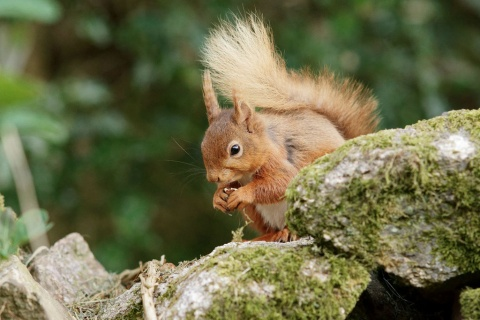Squirrel: (162, 7, 386, 241)
